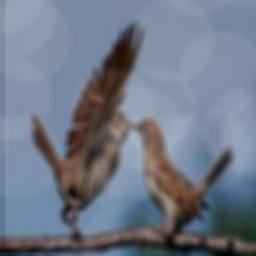Sparrow: (31, 23, 144, 237), (136, 117, 234, 243)
